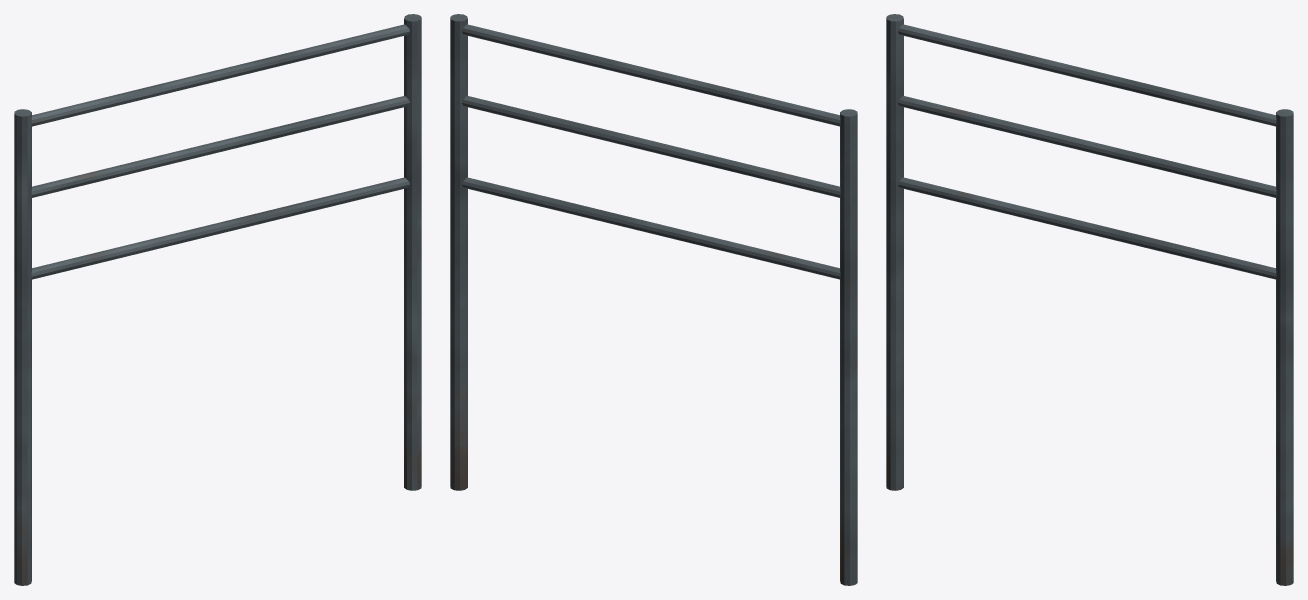
File: pullup_bar.glb
3 views of the same model, side by side, from view 1: azimuth 30°, elevation 25°; view 2: azimuth 150°, elevation 25°; view 3: azimuth 330°, elevation 25° (orthographic).
Visible parts, largest first — view 1: pullup_bar; view 2: pullup_bar; view 3: pullup_bar.
Part boxes in pixels (bbox=[...]): pullup_bar: bbox=[14, 14, 421, 585]; pullup_bar: bbox=[450, 14, 857, 585]; pullup_bar: bbox=[886, 14, 1293, 585].
Bounding box in the file's own units: 2.08 × 2.3 × 0.08.
1 material, 1 textured.
